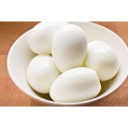begg: (49, 73, 103, 100), (54, 26, 87, 69)
